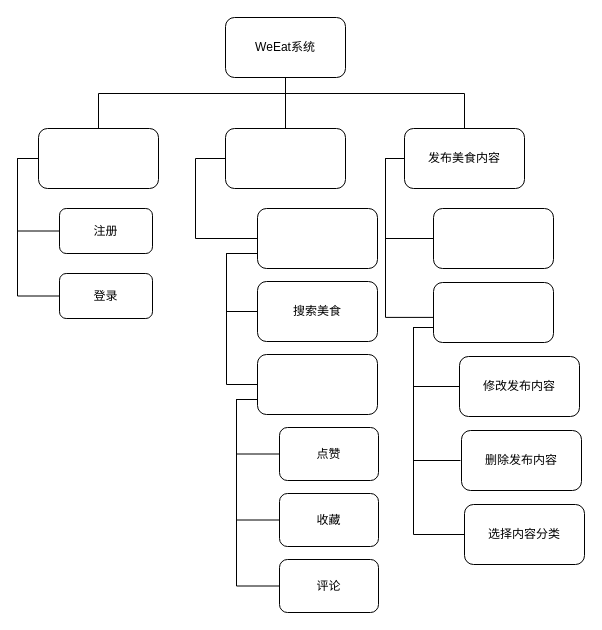
Image size: 602x630. Some labels were removed from this diagram. The shapes that lost their labels are listed below. From the top down, each one's centre as x and y in pixels, then its label:
At pixel 98 158: "用户认证管理".
At pixel 285 158: "浏览搜索美食".
At pixel 317 238: "选择分类".
At pixel 493 238: "审核发布内容".
At pixel 493 312: "发布内容".
At pixel 317 384: "浏览美食".
